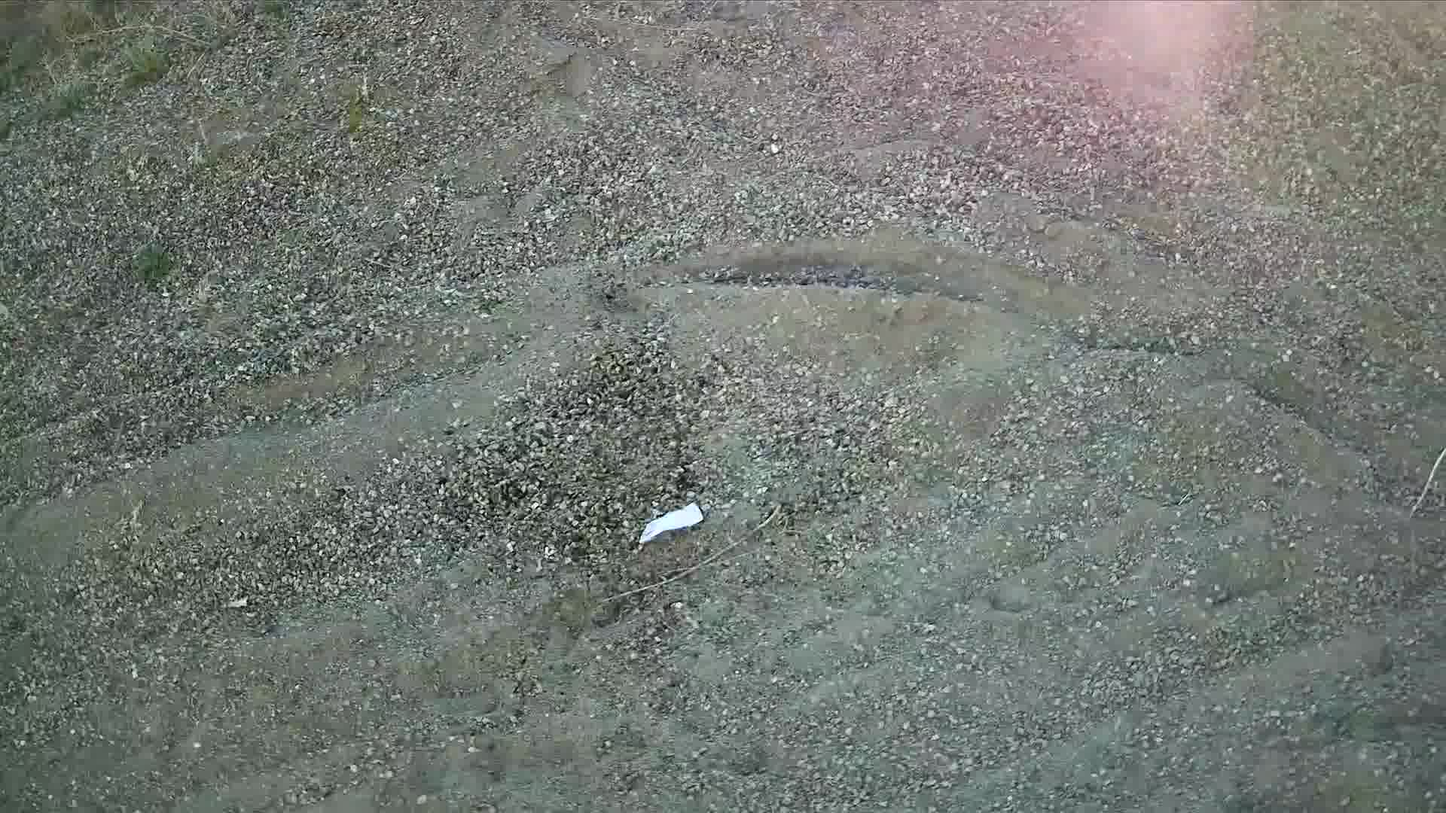Target: (641, 497, 700, 548)
